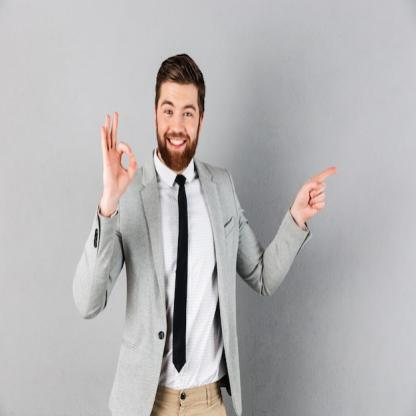ok: (98, 109, 140, 207)
